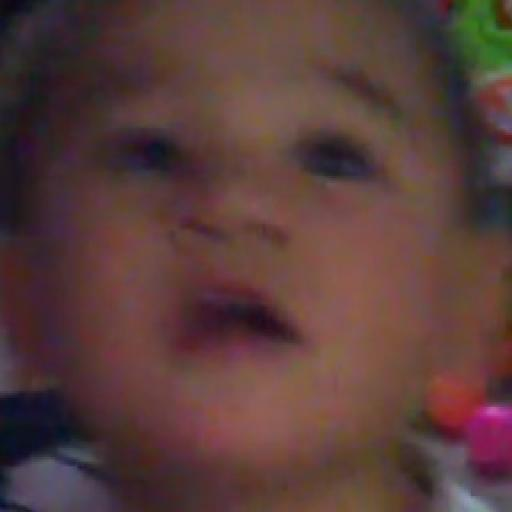Autism: (32, 7, 512, 484)
